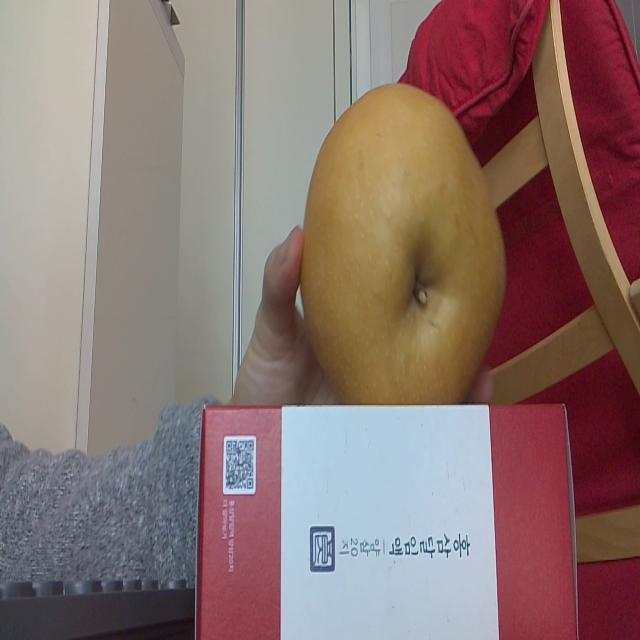pear: (304, 82, 506, 403)
